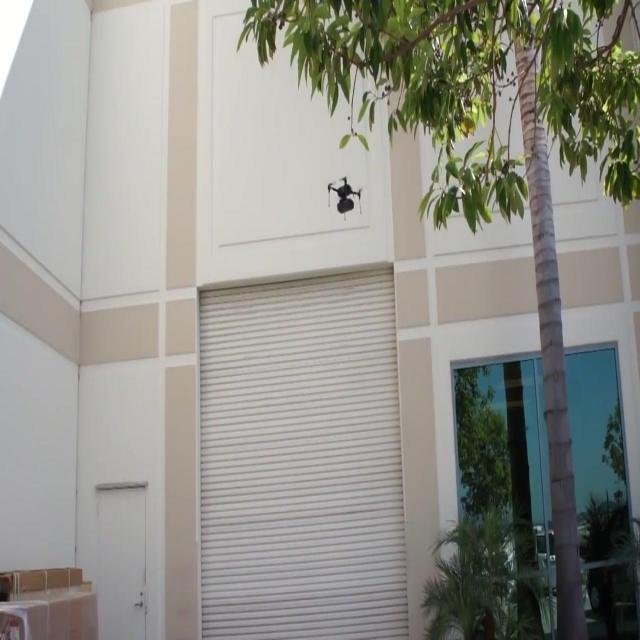drone: (324, 173, 366, 227)
